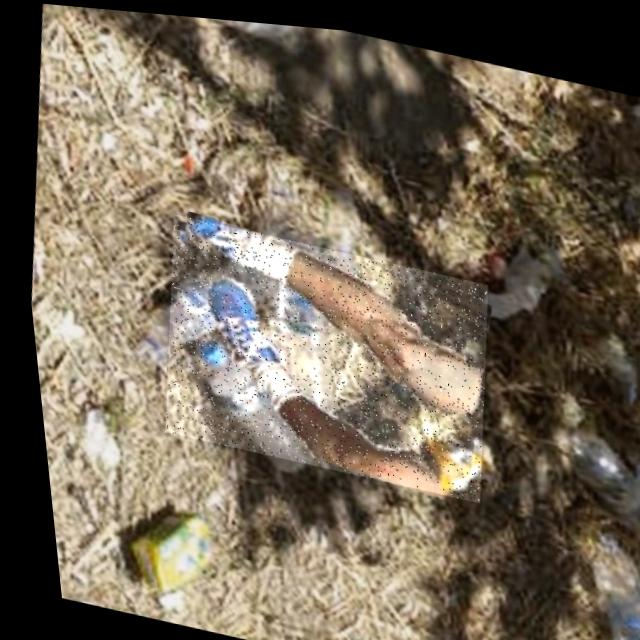Person in Rubble: (137, 209, 500, 497)
